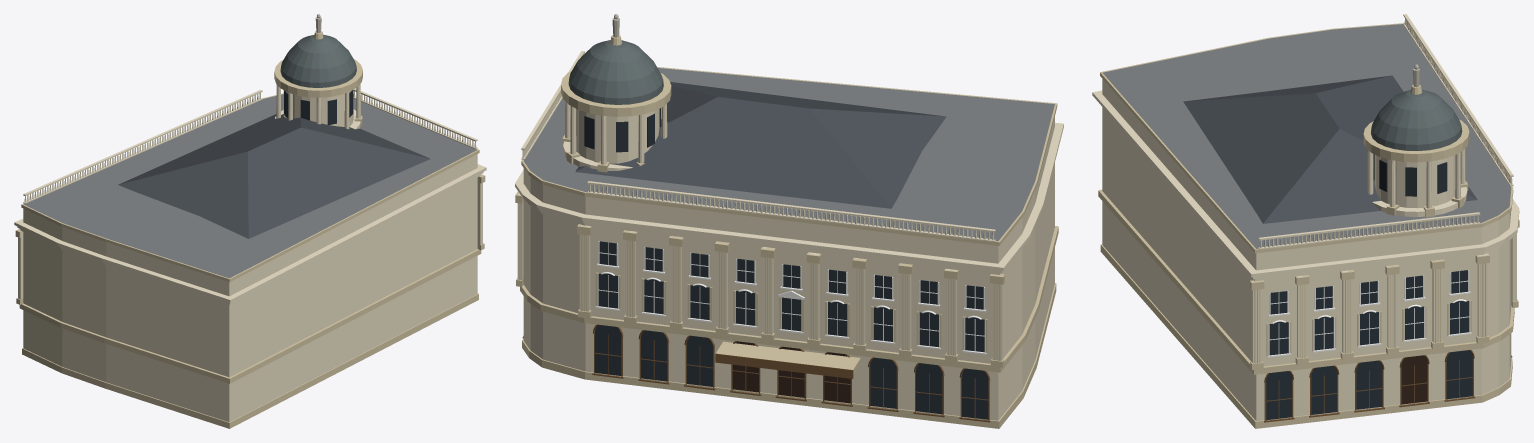
The model's file is coronet_theatre.glb.
The picture shows the model from 3 angles, left to right: view 1: azimuth 30°, elevation 25°; view 2: azimuth 150°, elevation 25°; view 3: azimuth 270°, elevation 25°; orthographic projection. The views are drawn at different scales.
Bounding box in the file's own units: 42.53 × 26.45 × 32.36.
